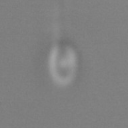abnormal: (42, 1, 83, 41)
